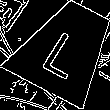L_NE: (37, 20, 95, 79)
